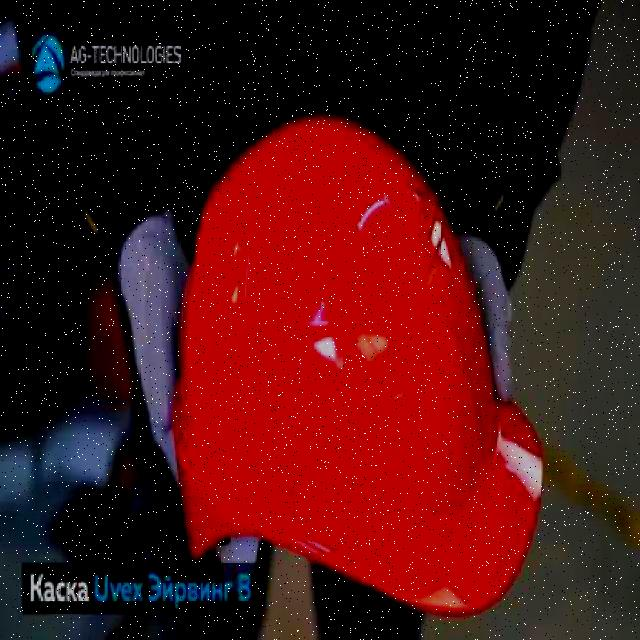Gloves: (114, 200, 198, 500), (448, 211, 518, 407)
Helmet: (169, 110, 546, 622)
